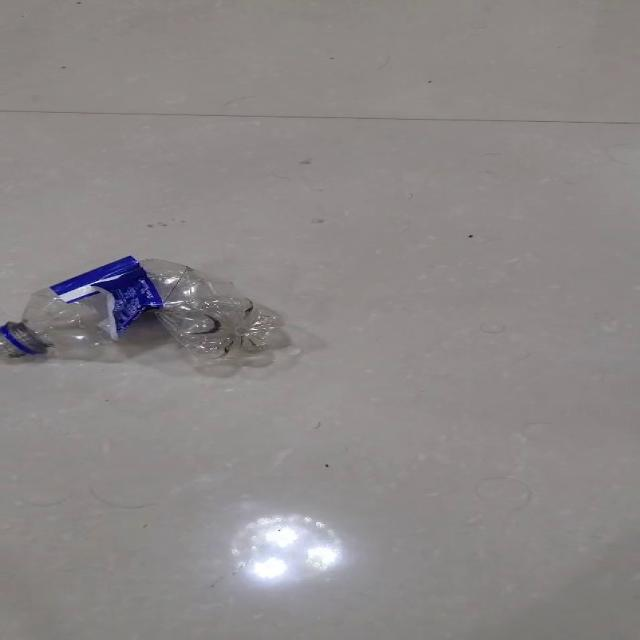plastic: (2, 255, 290, 368)
